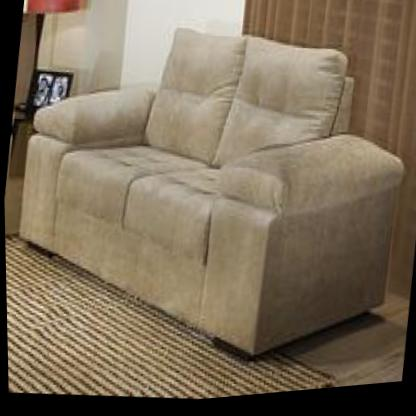Carpet: (4, 236, 286, 399)
Sofa: (1, 1, 416, 396)
